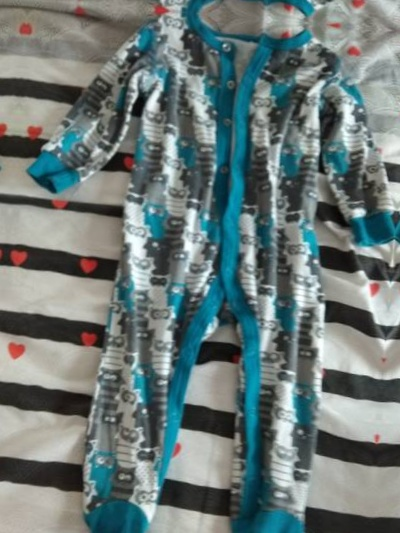Body: (1, 6, 400, 533), (369, 38, 400, 533), (47, 0, 400, 26), (0, 0, 9, 527)
